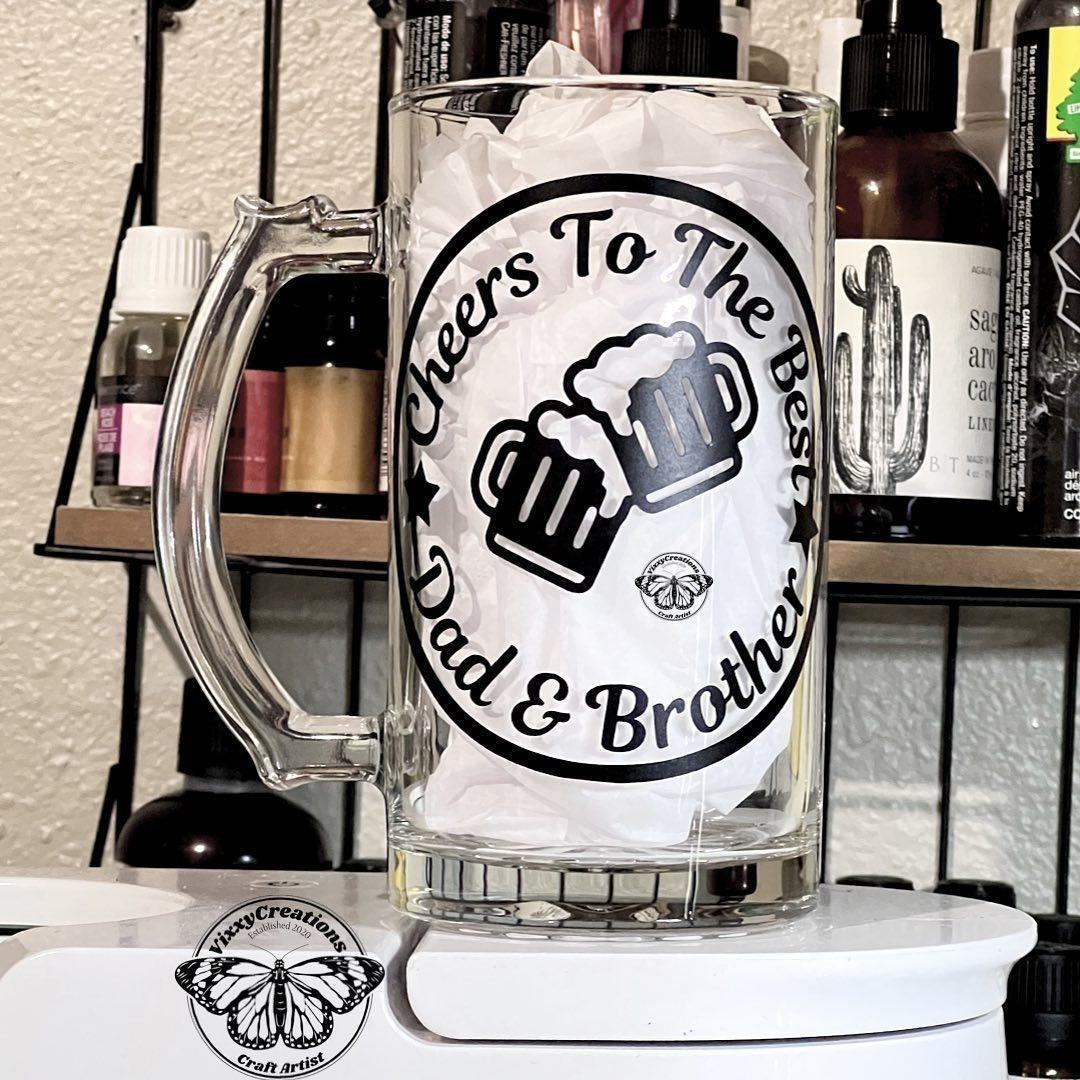glass-mug: (146, 63, 845, 931)
